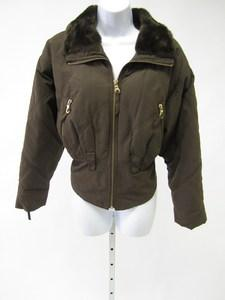C_jacket: (15, 1, 214, 236)
